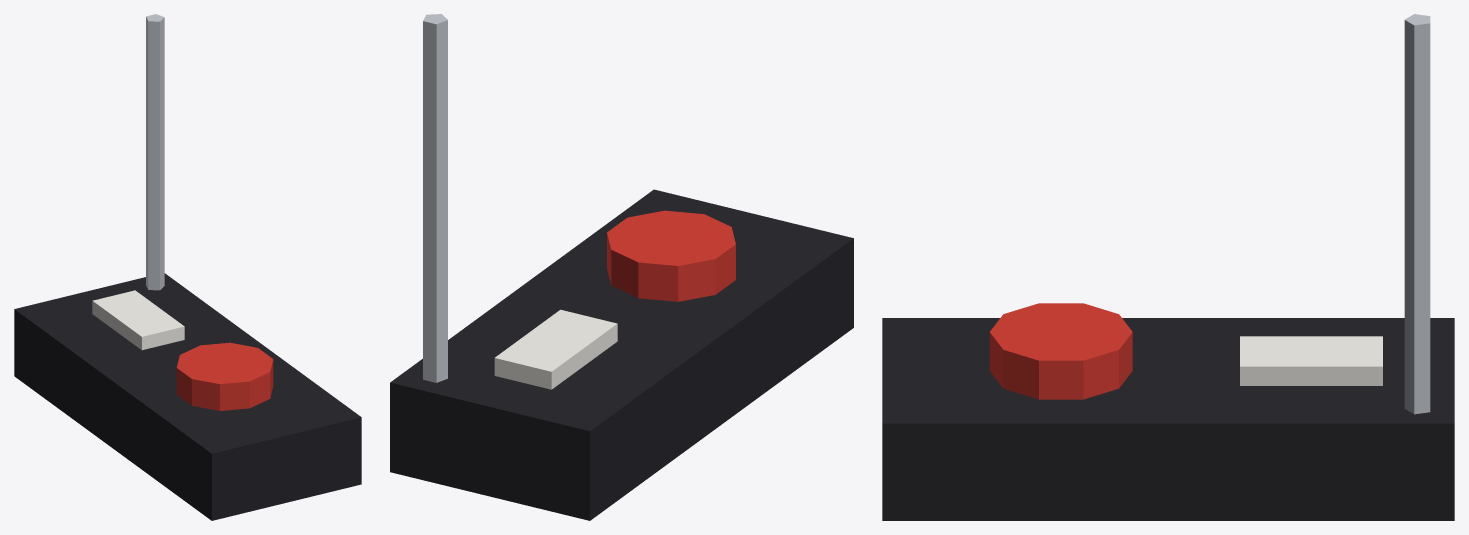
The model's file is bowl_pin_remote.glb.
3 renders of one model, left to right at view 1: azimuth 30°, elevation 25°; view 2: azimuth 150°, elevation 25°; view 3: azimuth 270°, elevation 25°, orthographic. The views are drawn at different scales.
Parts seen in each view (by area): view 1: body_remote_black, button_remote_red, antenna_remote_steel, pin_pin_white; view 2: body_remote_black, button_remote_red, antenna_remote_steel, pin_pin_white; view 3: body_remote_black, button_remote_red, antenna_remote_steel, pin_pin_white.
Boxes of the visible parts, <box> form: body_remote_black: <box>14,273,361,520</box>; button_remote_red: <box>176,342,273,410</box>; antenna_remote_steel: <box>146,14,164,290</box>; pin_pin_white: <box>92,290,184,350</box>; body_remote_black: <box>390,189,853,520</box>; button_remote_red: <box>607,210,735,301</box>; antenna_remote_steel: <box>423,14,447,382</box>; pin_pin_white: <box>494,309,617,389</box>; body_remote_black: <box>882,318,1454,520</box>; button_remote_red: <box>989,303,1132,399</box>; antenna_remote_steel: <box>1404,14,1430,414</box>; pin_pin_white: <box>1240,336,1382,385</box>.
Size of the model in its own units: 0.07 by 0.15 by 0.16.
